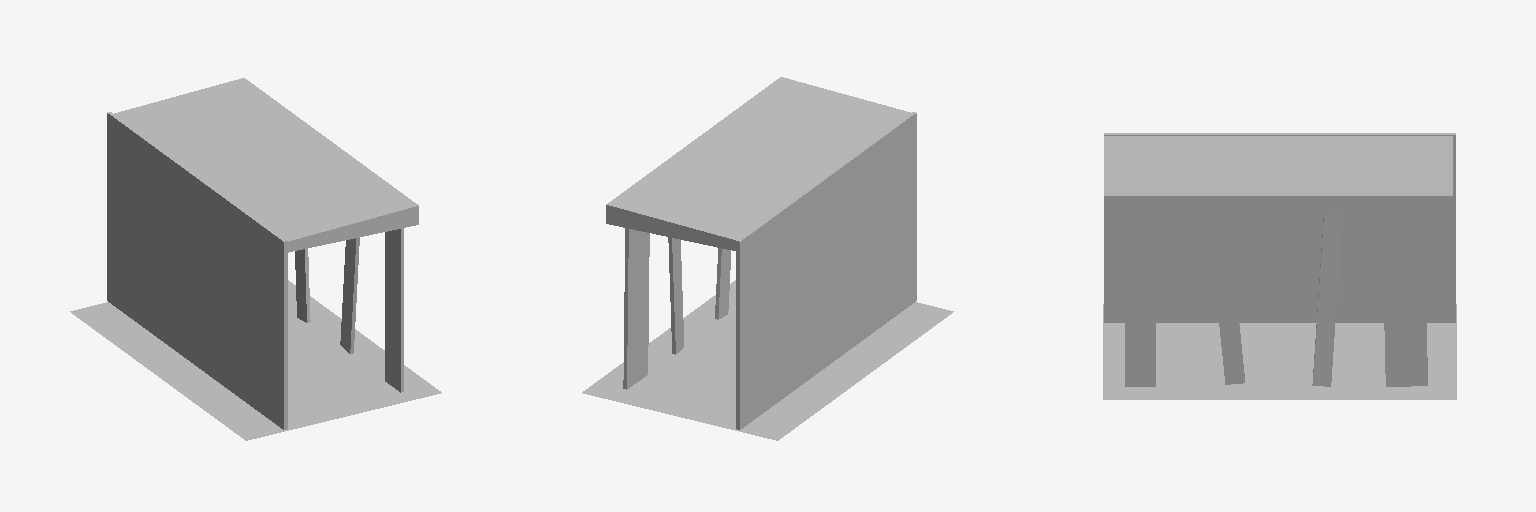
Rendered from balcony.obj.
3 views of the same model, side by side, from view 1: azimuth 30°, elevation 25°; view 2: azimuth 150°, elevation 25°; view 3: azimuth 270°, elevation 25° (orthographic).
Parts seen in each view (by area): view 1: 平面.023; view 2: 平面.023; view 3: 平面.023.
Boxes of the visible parts, x1,y1,x2,y2 form: 平面.023: [70, 78, 441, 440]; 平面.023: [582, 77, 953, 440]; 平面.023: [1103, 133, 1456, 399].
Size of the model in its own units: 3.51 by 3.3 by 5.47.